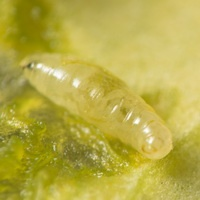insect: (21, 54, 172, 158)
